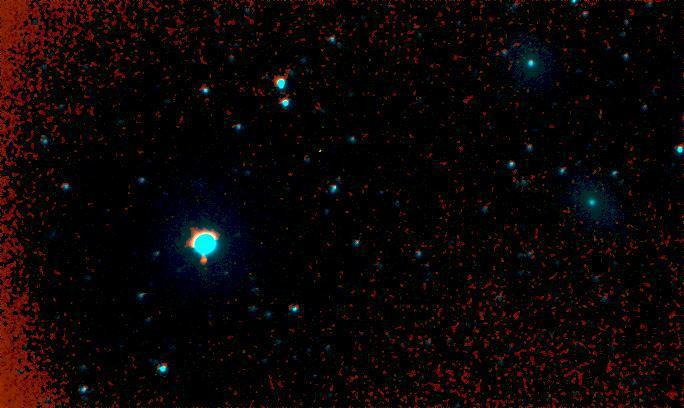star: (191, 243, 221, 273)
